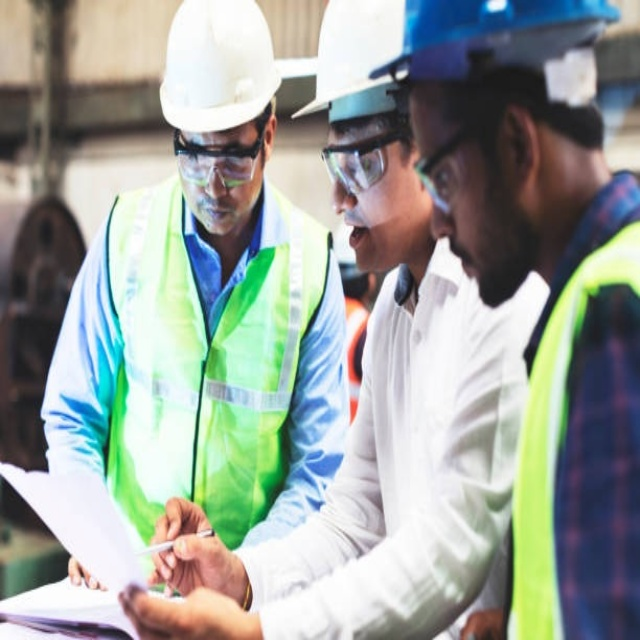Gafas: (410, 121, 484, 215), (172, 119, 271, 188), (321, 125, 404, 191)
Sin_guantes: (144, 493, 245, 596), (116, 577, 259, 632)
Sin_mascara: (438, 235, 501, 309), (338, 209, 381, 264), (196, 196, 238, 226)
